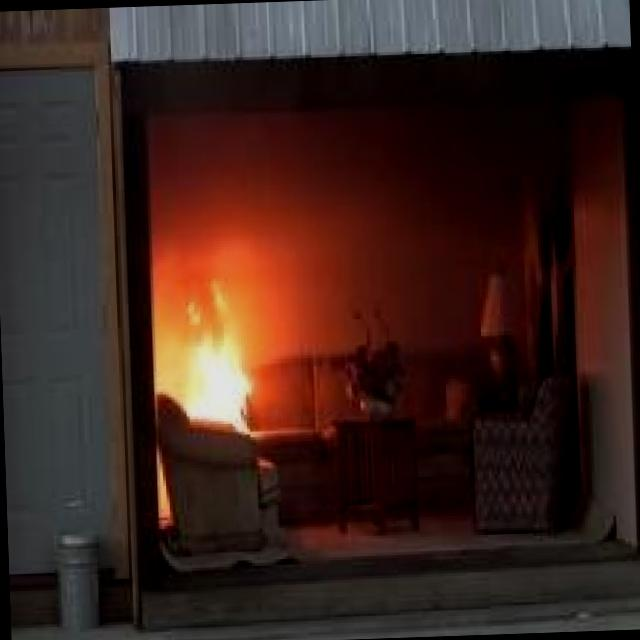fire: (152, 256, 255, 422)
